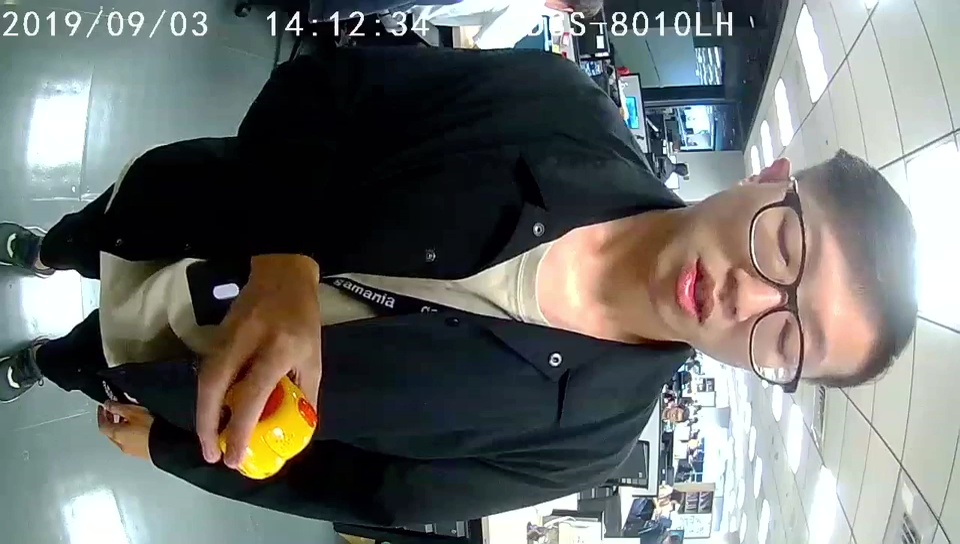car: (240, 371, 315, 478)
